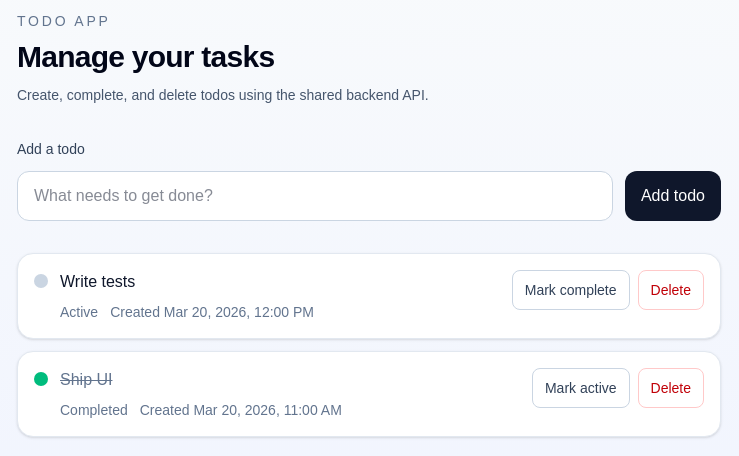
TodoApp › optimistically deletes a todo before API responds
The image size is (739, 456).
Expected: the text "Write tests" is shown, [60, 273, 135, 290]
Click the button "Delete" in the row of "Write tests".
click(671, 290)  # box [638, 270, 704, 310]
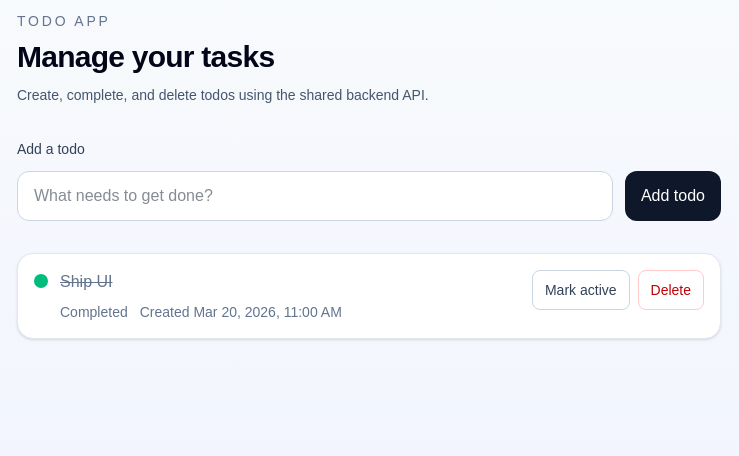
Expected: the text "Write tests" is gone
Expected: the number of list items is 1, [17, 253, 721, 339]
